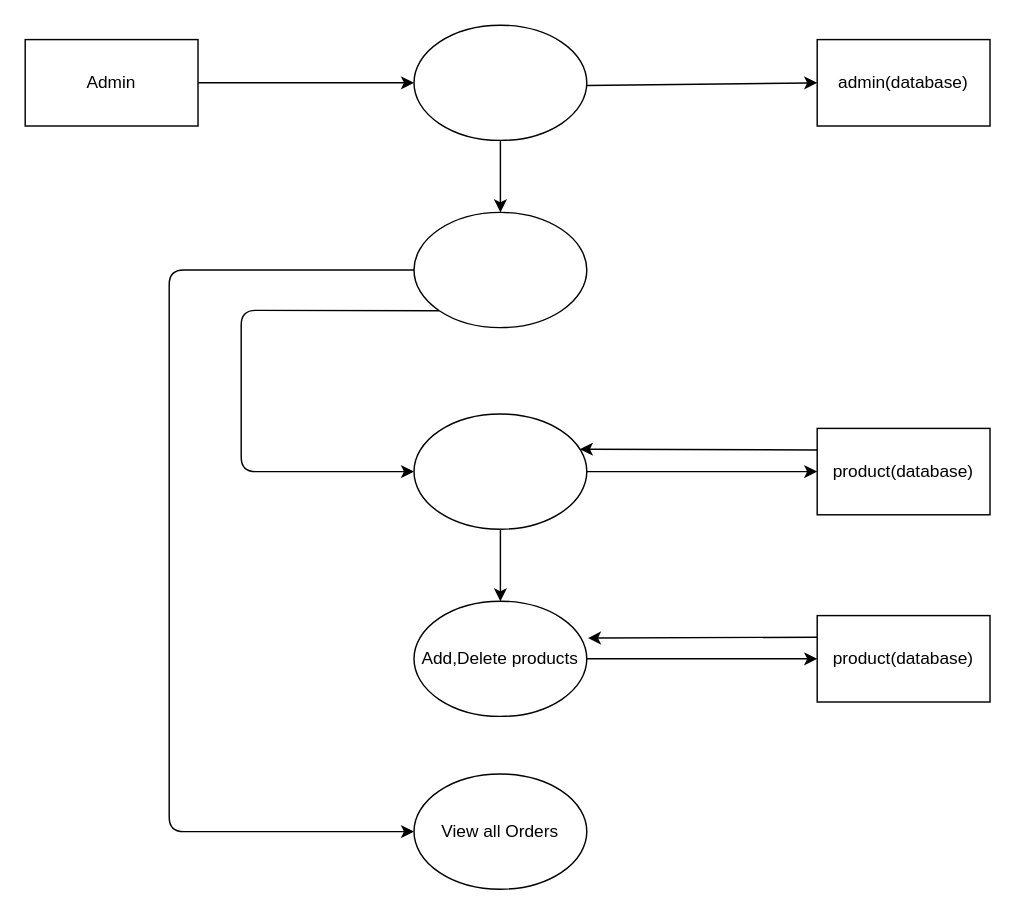
Image size: 1015x914. Some labels were removed from this diagram. Here are the shapes that lost their labels. From the top down, the centre of each, then its label:
point (500, 82): Sign-Up
point (500, 269): Login
point (500, 471): View all products
